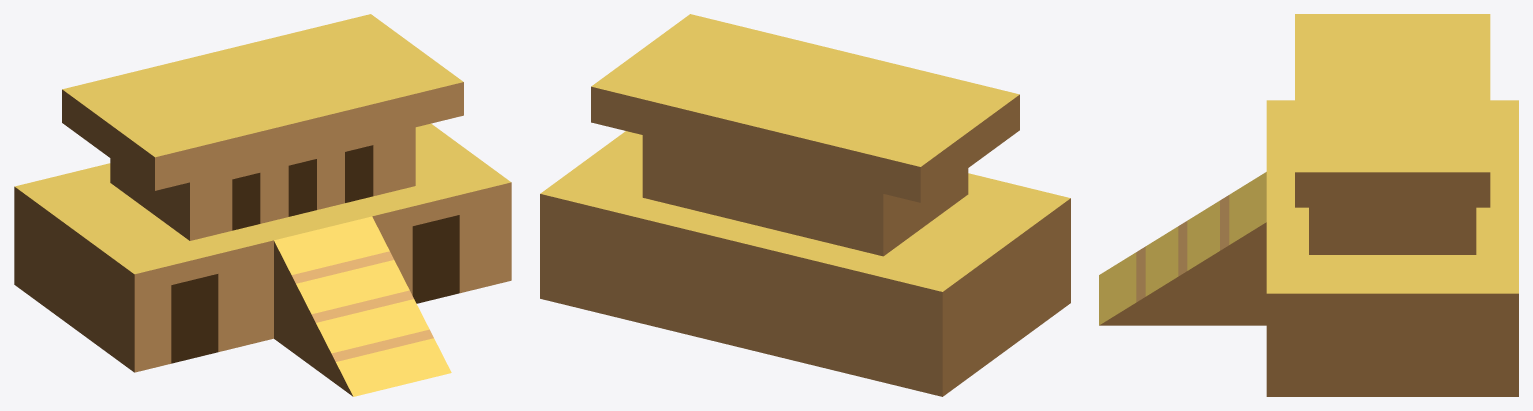
File: bigRuin.fbx
3 views of the same model, side by side, from view 1: azimuth 30°, elevation 25°; view 2: azimuth 150°, elevation 25°; view 3: azimuth 270°, elevation 25° (orthographic). The views are drawn at different scales.
Visible parts, largest first — view 1: roof, entrance (×2), mainFloor, slope, polySurface3, scondFloor; view 2: mainFloor, roof, scondFloor; view 3: mainFloor, roof, polySurface2, slope, scondFloor.
Boxes of the visible parts, x1=… form: roof: x1=62, y1=14, x2=463, y2=190; entrance (×2): x1=134, y1=127, x2=511, y2=372; mainFloor: x1=14, y1=123, x2=510, y2=372; slope: x1=274, y1=216, x2=451, y2=396; polySurface3: x1=274, y1=241, x2=352, y2=396; scondFloor: x1=110, y1=158, x2=189, y2=240; mainFloor: x1=540, y1=131, x2=1070, y2=396; roof: x1=591, y1=14, x2=1019, y2=202; scondFloor: x1=642, y1=135, x2=968, y2=256; mainFloor: x1=1266, y1=100, x2=1518, y2=396; roof: x1=1295, y1=14, x2=1490, y2=207; polySurface2: x1=1099, y1=222, x2=1266, y2=325; slope: x1=1099, y1=172, x2=1266, y2=325; scondFloor: x1=1309, y1=207, x2=1476, y2=254.
Size of the model in its own units: 521 by 260 by 478.
Materials: 1 (1 with a texture image).
